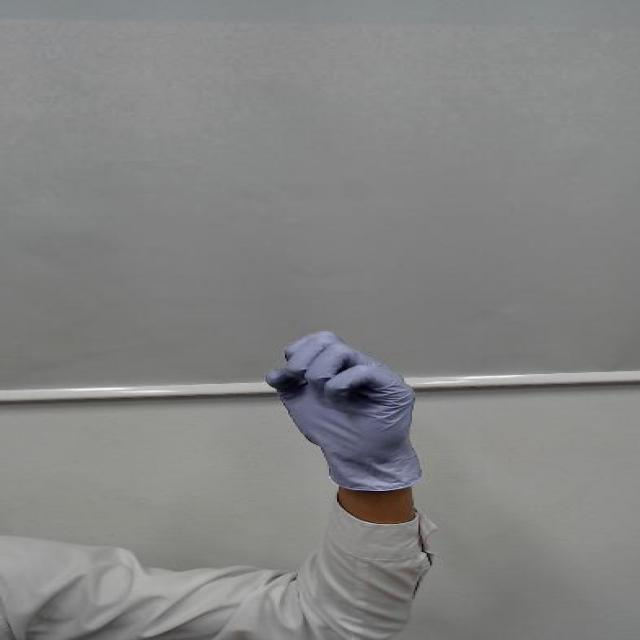Glove: (264, 324, 442, 488)
